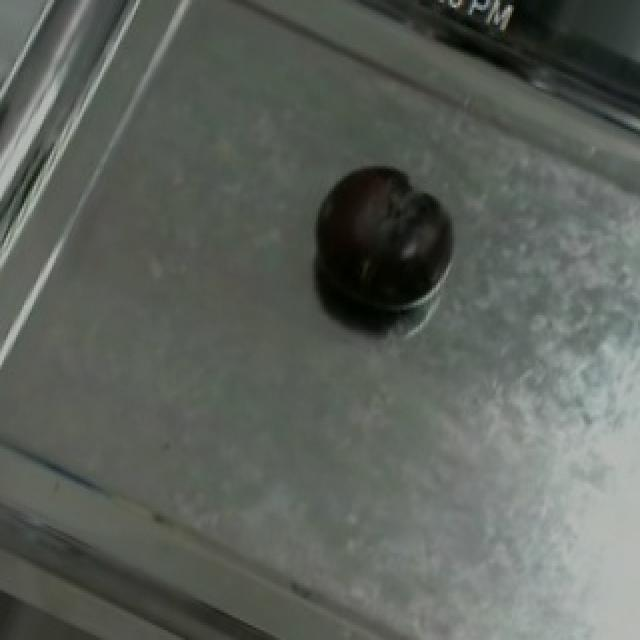Fruit: (298, 144, 462, 330)
